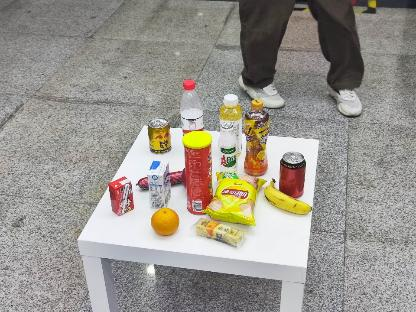Can: (280, 152, 307, 198), (148, 115, 174, 156)
Others: (183, 134, 213, 218), (106, 174, 142, 222), (146, 161, 170, 208)
Plastic Bottle: (245, 99, 269, 177), (218, 94, 242, 172), (182, 78, 203, 130)
